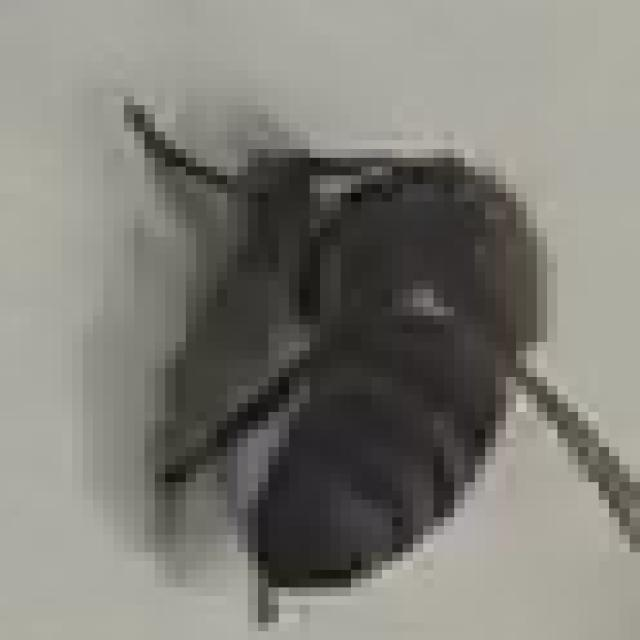honeybee: (108, 64, 629, 640)
